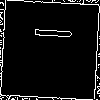I: (24, 24, 73, 42)
